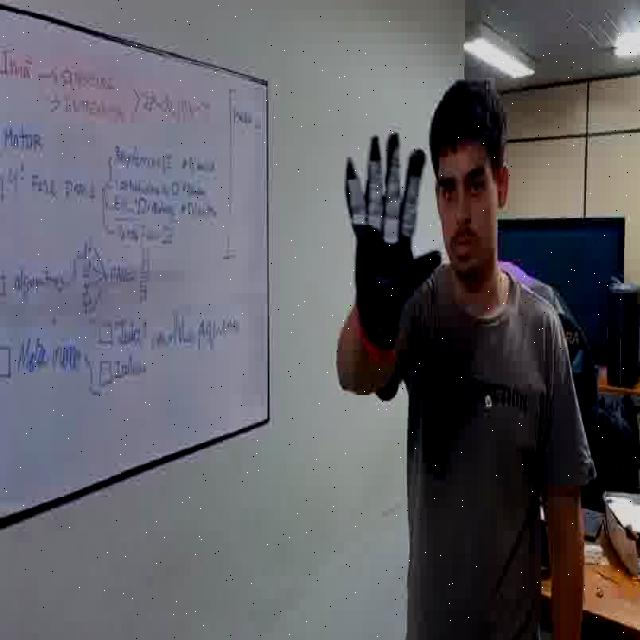Gloves: (344, 132, 442, 358)
